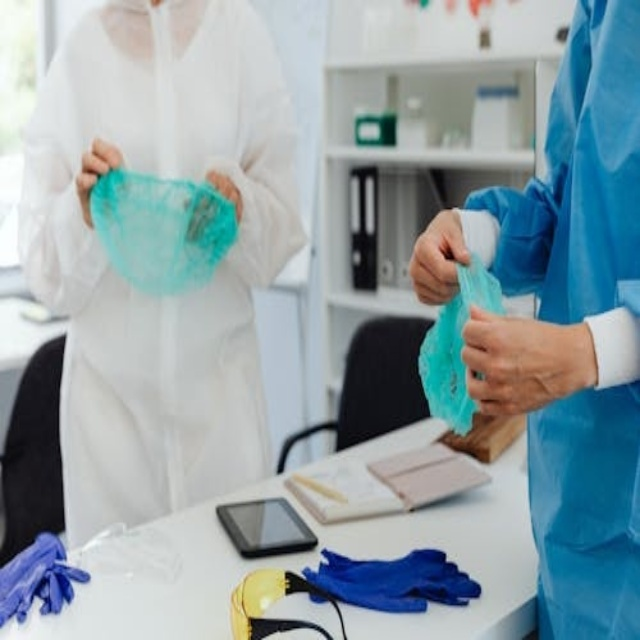Sin_guantes: (457, 305, 587, 417), (406, 207, 485, 308), (74, 135, 128, 230), (202, 167, 243, 229)
